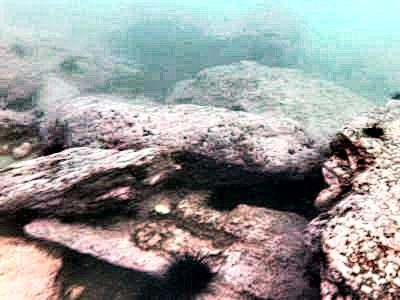urchin: (160, 249, 215, 293), (204, 182, 242, 210)
